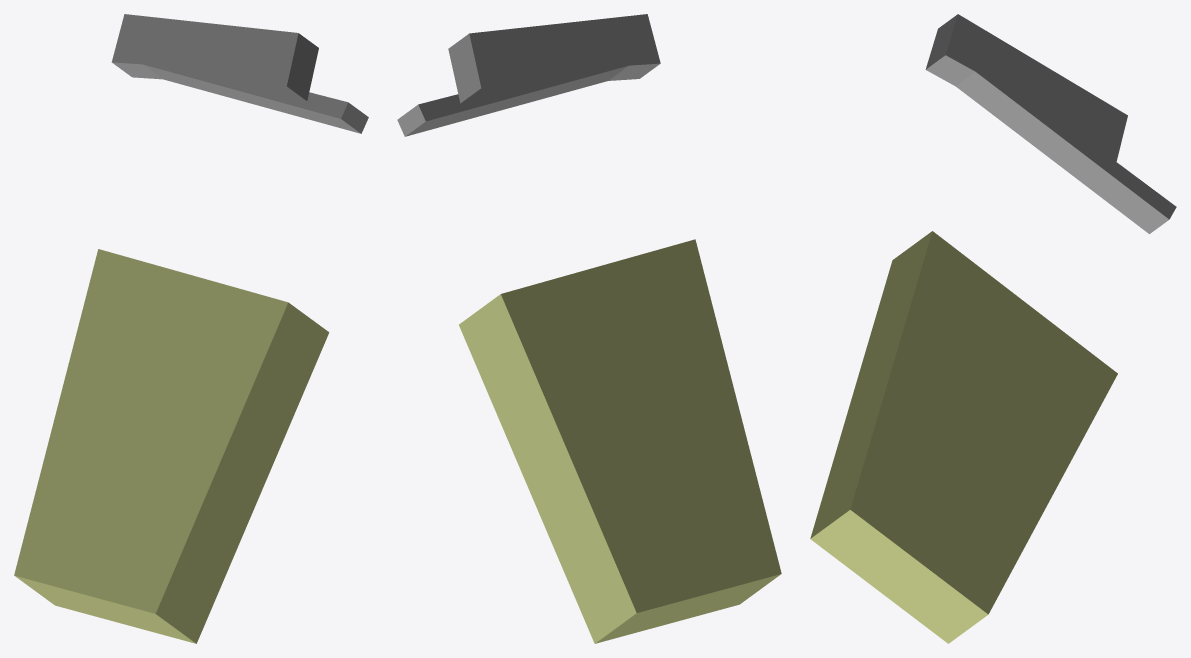
3 views of the same model, side by side, from view 1: azimuth 30°, elevation 25°; view 2: azimuth 150°, elevation 25°; view 3: azimuth 330°, elevation 25° (orthographic). The views are drawn at different scales.
Visible parts, largest first — view 1: 0_1_0_0_1_0_0_3_2; view 2: 0_1_0_0_1_0_0_3_2; view 3: 0_1_0_0_1_0_0_3_2.
Part boxes in pixels (<box>): 0_1_0_0_1_0_0_3_2: <box>14,14,368,643</box>; 0_1_0_0_1_0_0_3_2: <box>397,14,781,643</box>; 0_1_0_0_1_0_0_3_2: <box>810,14,1176,643</box>.
Size of the model in its own units: 28.22 by 49.01 by 6.
